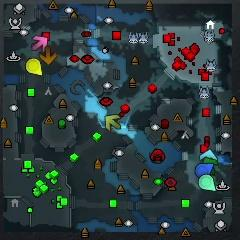p1: (195, 162, 214, 178)
p2: (199, 174, 216, 192)
p4: (26, 58, 42, 76)
x1: (32, 36, 48, 52)
x2: (105, 115, 122, 132)
x3: (200, 150, 218, 162)
x4: (203, 157, 218, 175)
x5: (39, 47, 58, 65)
